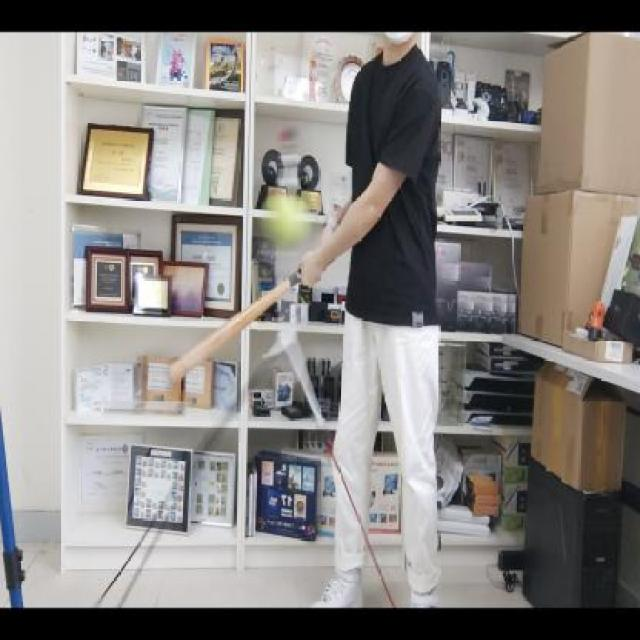baseball: (256, 190, 313, 248)
